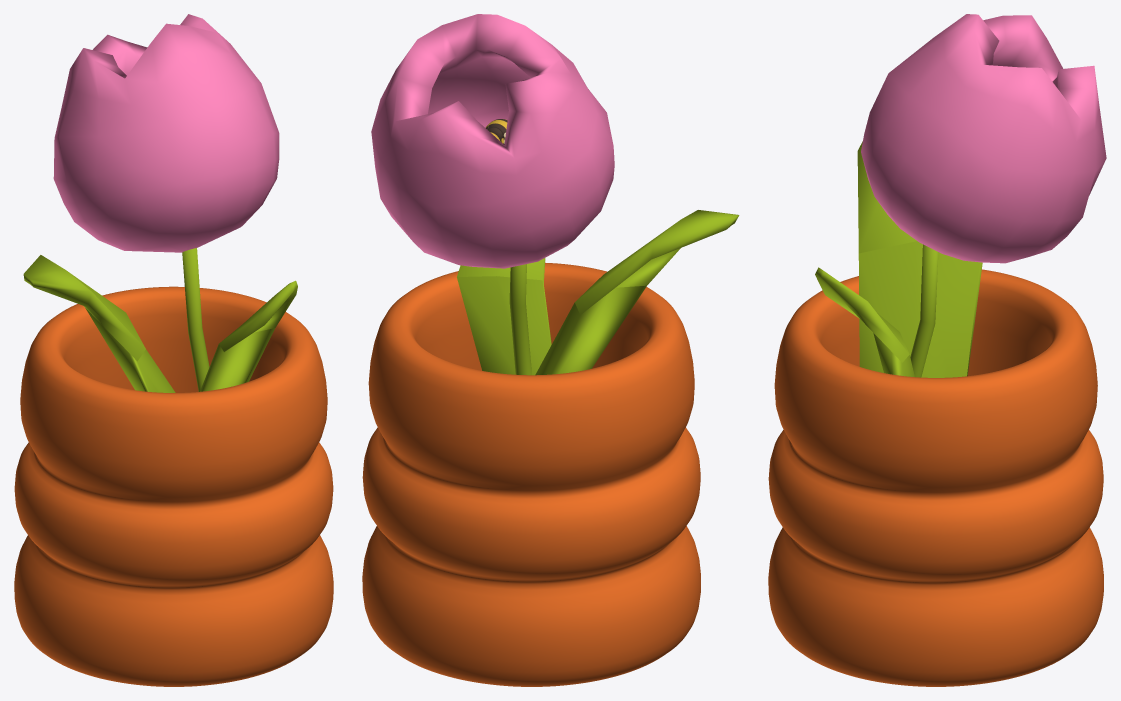
The model's file is Tulpan_Open.glb.
3 renders of one model, left to right at view 1: azimuth 30°, elevation 25°; view 2: azimuth 150°, elevation 25°; view 3: azimuth 270°, elevation 25°, orthographic. The views are drawn at different scales.
Visible parts, largest first — view 1: Cylinder, Cylinder.001, Plane.001, Plane.002, Cylinder.002; view 2: Cylinder, Cylinder.001, Plane.001, Plane.002, Cylinder.002; view 3: Cylinder, Cylinder.001, Plane.001, Plane.002, Cylinder.002.
Part boxes in pixels (box(x1,y1,x2,y2)): Cylinder: box(14, 286, 333, 686); Cylinder.001: box(53, 14, 279, 252); Plane.001: box(23, 255, 175, 392); Plane.002: box(200, 280, 297, 391); Cylinder.002: box(182, 248, 209, 391); Cylinder: box(362, 262, 700, 686); Cylinder.001: box(371, 14, 614, 268); Plane.001: box(535, 210, 739, 375); Plane.002: box(457, 258, 551, 375); Cylinder.002: box(509, 264, 531, 375); Cylinder: box(768, 269, 1103, 686); Cylinder.001: box(861, 14, 1106, 263); Plane.001: box(857, 141, 982, 377); Plane.002: box(815, 267, 914, 376); Cylinder.002: box(910, 244, 938, 377).
Bounding box in the file's own units: 2.2 × 4.05 × 1.99.
4 materials, 1 textured.
